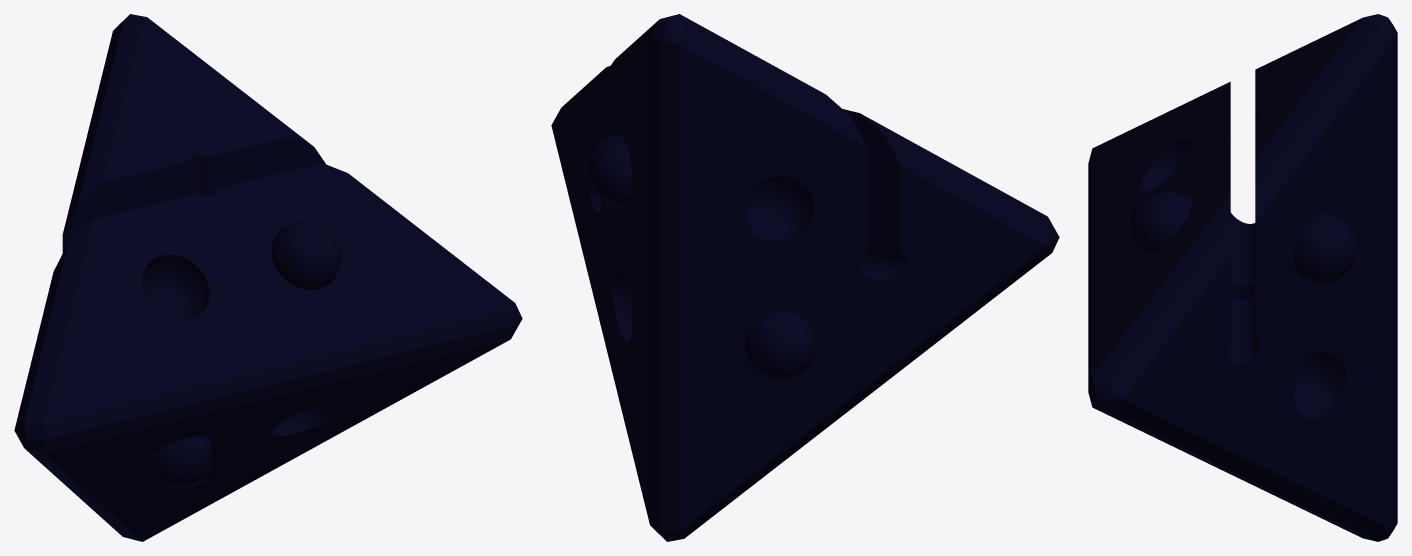
Rendered from Cordedfree.obj.
The picture shows the model from 3 angles, left to right: view 1: azimuth 30°, elevation 25°; view 2: azimuth 150°, elevation 25°; view 3: azimuth 270°, elevation 25°; orthographic projection.
Visible parts, largest first — view 1: Icosphere.004; view 2: Icosphere.004; view 3: Icosphere.004.
Boxes of the visible parts, x1,y1,x2,y2 form: Icosphere.004: (14,14,522,541); Icosphere.004: (551,14,1059,541); Icosphere.004: (1088,14,1397,541).
Size of the model in its own units: 3.44 by 3.44 by 1.85.
